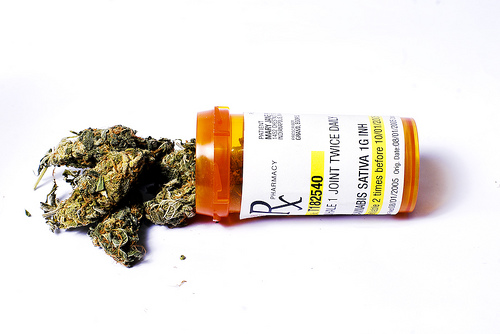pill bottle: (192, 103, 426, 230)
